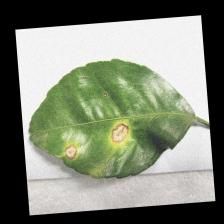canker: (60, 85, 133, 165)
